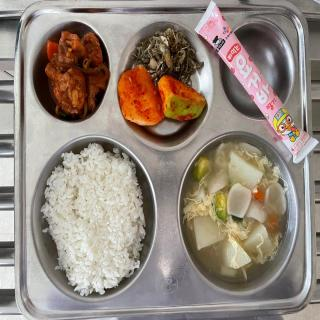Nasi: (43, 140, 154, 285)
